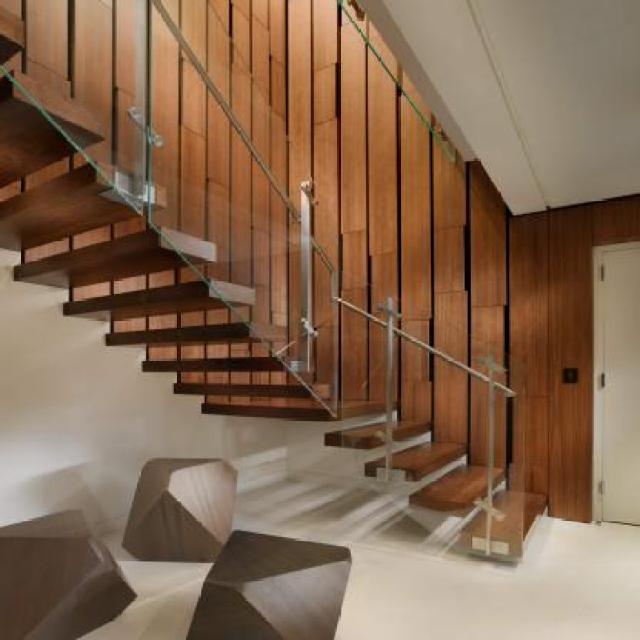stair: (0, 0, 594, 580)
